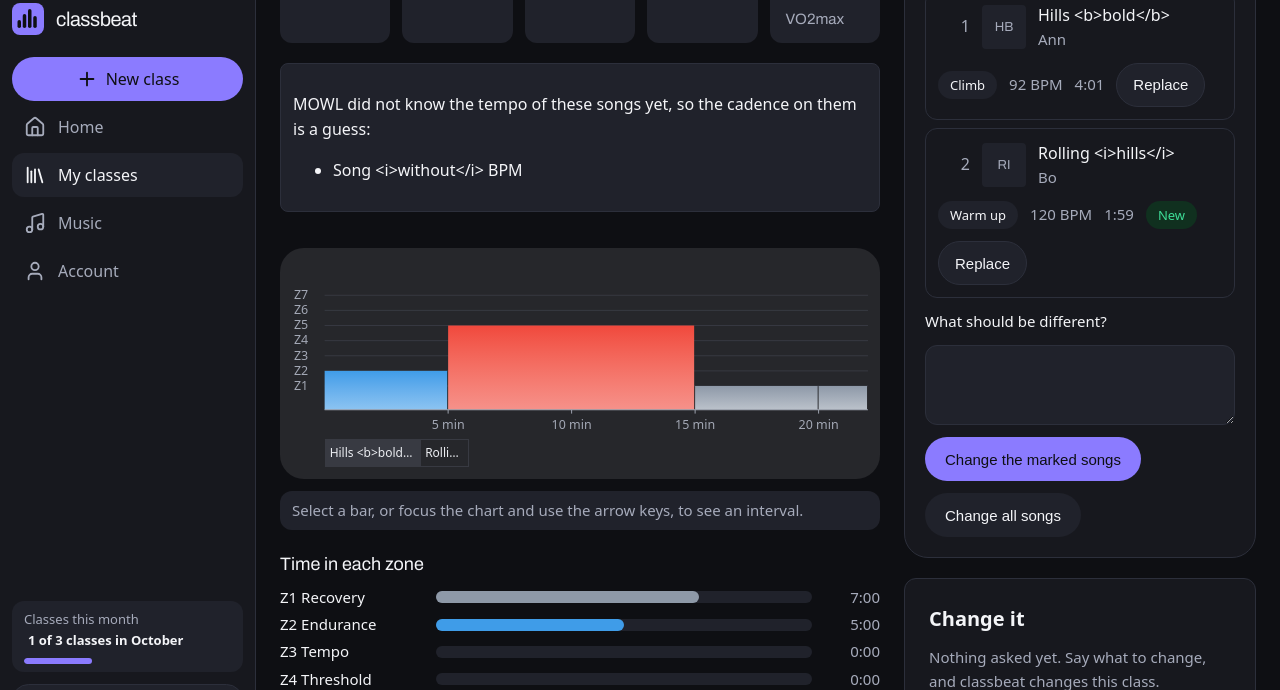
the class page › can change all songs, and words not_song_picked
The image size is (1280, 690).
(page scrolled)
Expected: the button "Change all songs" is shown, [925,493,1081,537]
Step 1. Type "Everything new" into the text box labelled "What should be different?" → (1080, 385), box [925,345,1235,425]
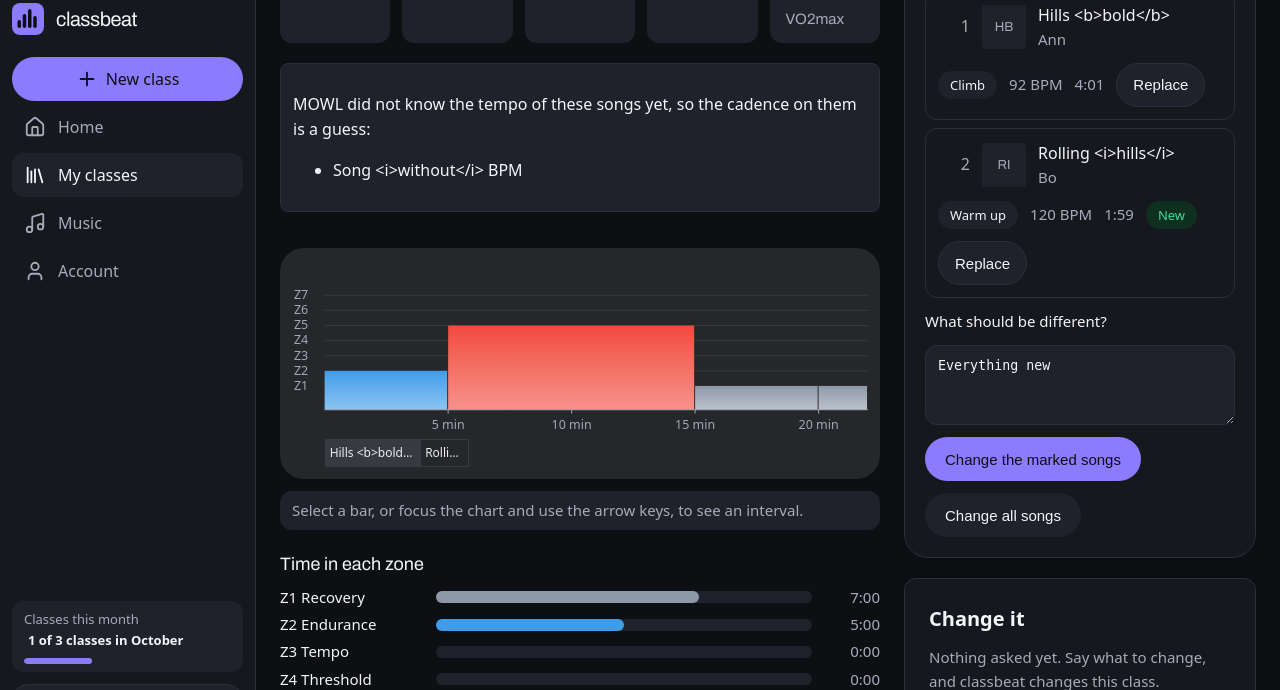
Step 2. Click the button "Change all songs" → (1003, 515), box [925,493,1081,537]
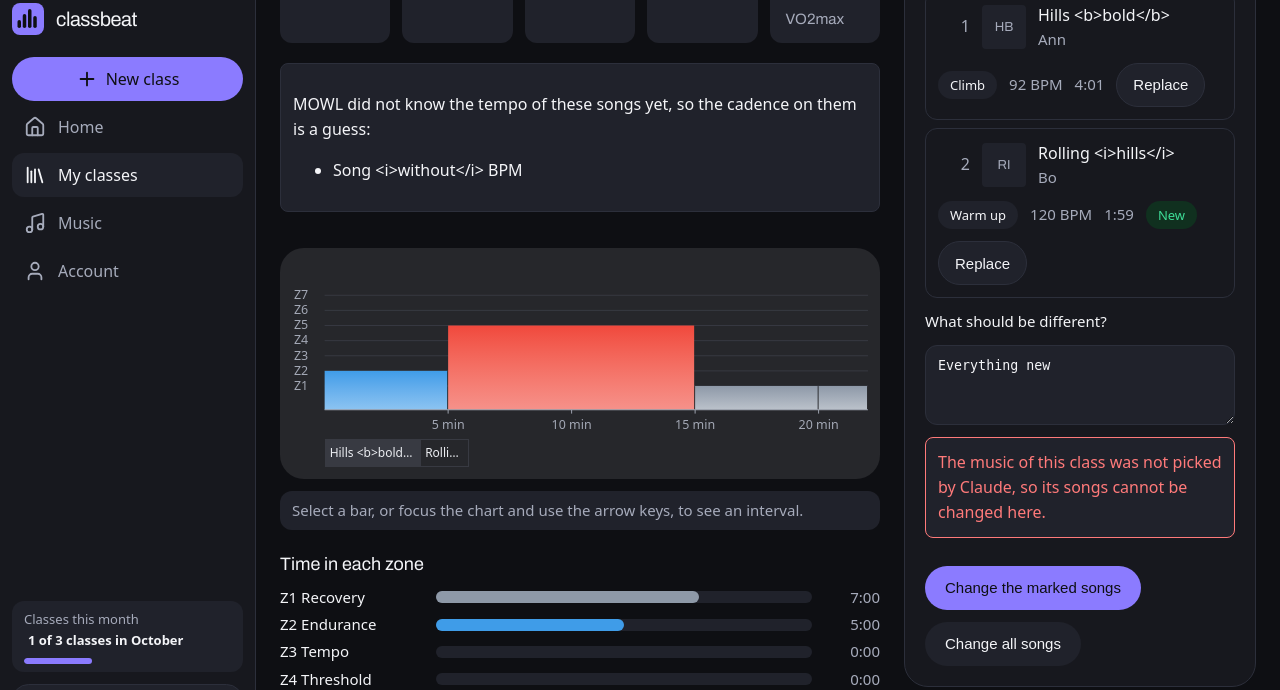
Expected: the 2nd message shows "was not picked by Claude", [938,451,1222,523]
